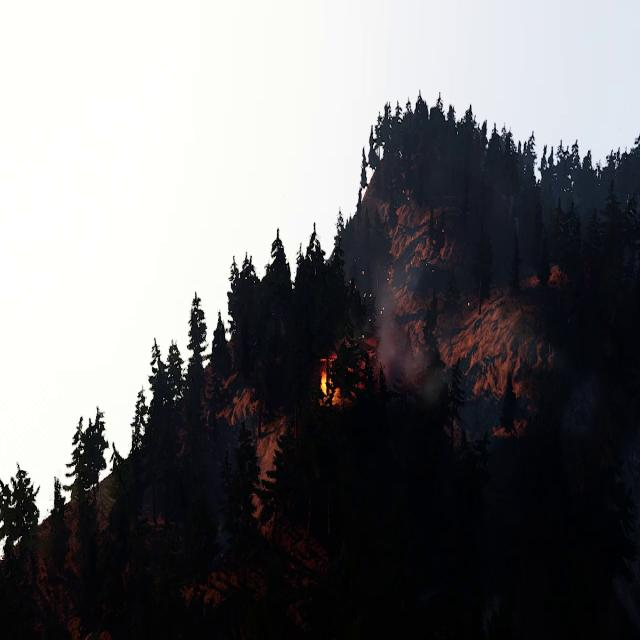fire: (320, 370, 334, 402)
smoke: (375, 272, 400, 382)
